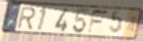1: (37, 6, 48, 32)
4: (54, 7, 69, 33)
5: (72, 8, 91, 35), (109, 10, 124, 36)
F: (86, 9, 110, 35)
R: (16, 6, 37, 30)
